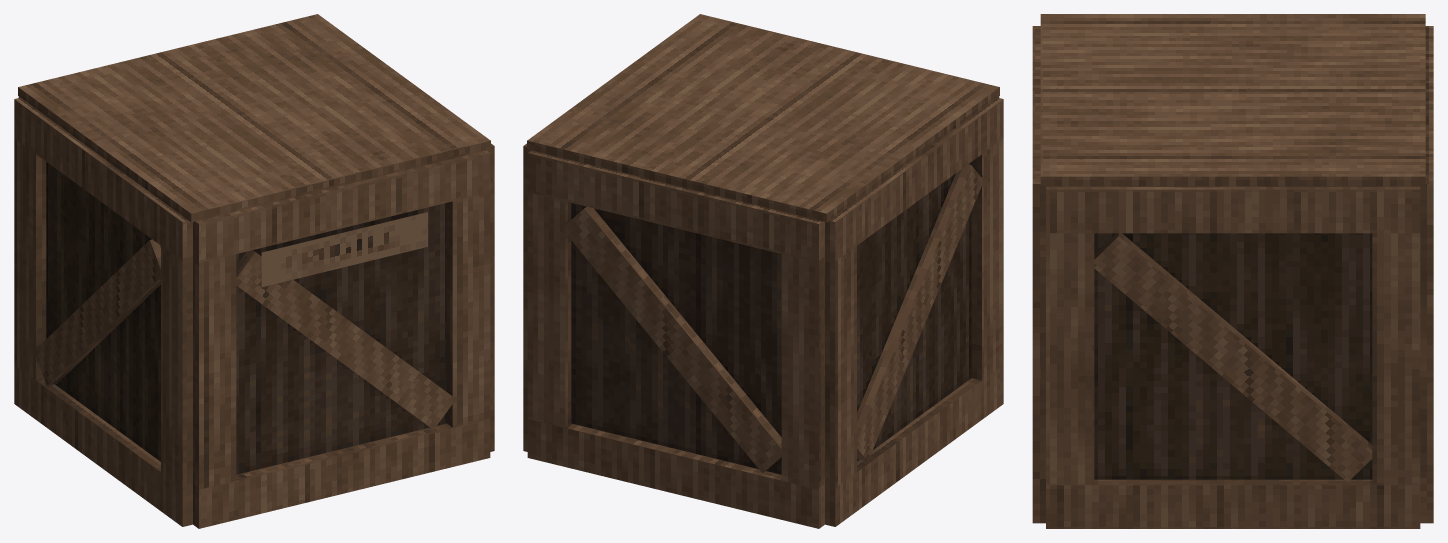
The picture shows the model from 3 angles, left to right: view 1: azimuth 30°, elevation 25°; view 2: azimuth 150°, elevation 25°; view 3: azimuth 270°, elevation 25°; orthographic projection. The views are drawn at different scales.
Parts seen in each view (by area): view 1: px_crate_wood; view 2: px_crate_wood; view 3: px_crate_wood.
Part boxes in pixels (x1,y1,x2,y2): px_crate_wood: (14, 14, 494, 528); px_crate_wood: (523, 14, 1003, 528); px_crate_wood: (1032, 14, 1433, 528).
Size of the model in its own units: 0.75 by 0.72 by 0.751.
1 material, 1 textured.
